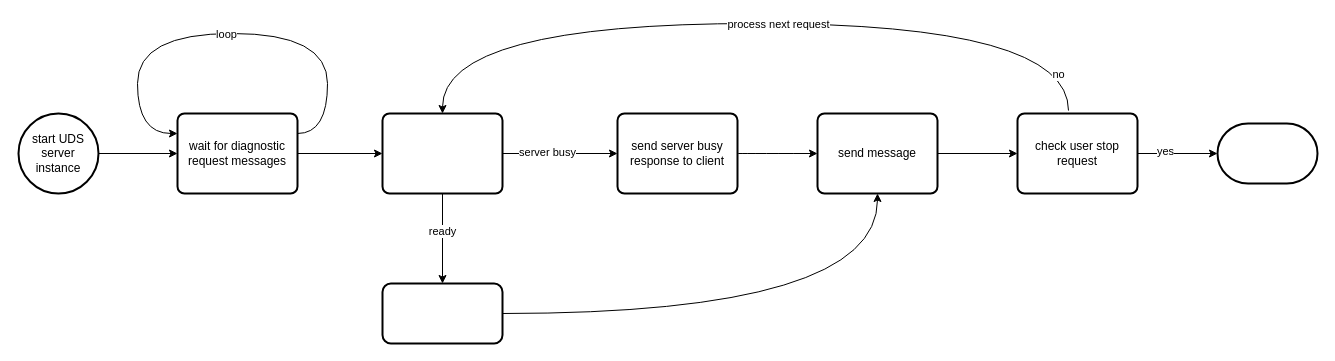
The diagram is 1335 pixels wide and 361 high, and some of its shapes have lost their labels. Here are the shapes that lost their labels. From the top down, the box of each, then its label:
(381, 112, 503, 194): process received request
(1216, 122, 1318, 184): shutdown UDS server instance
(381, 282, 503, 344): calculate request response
